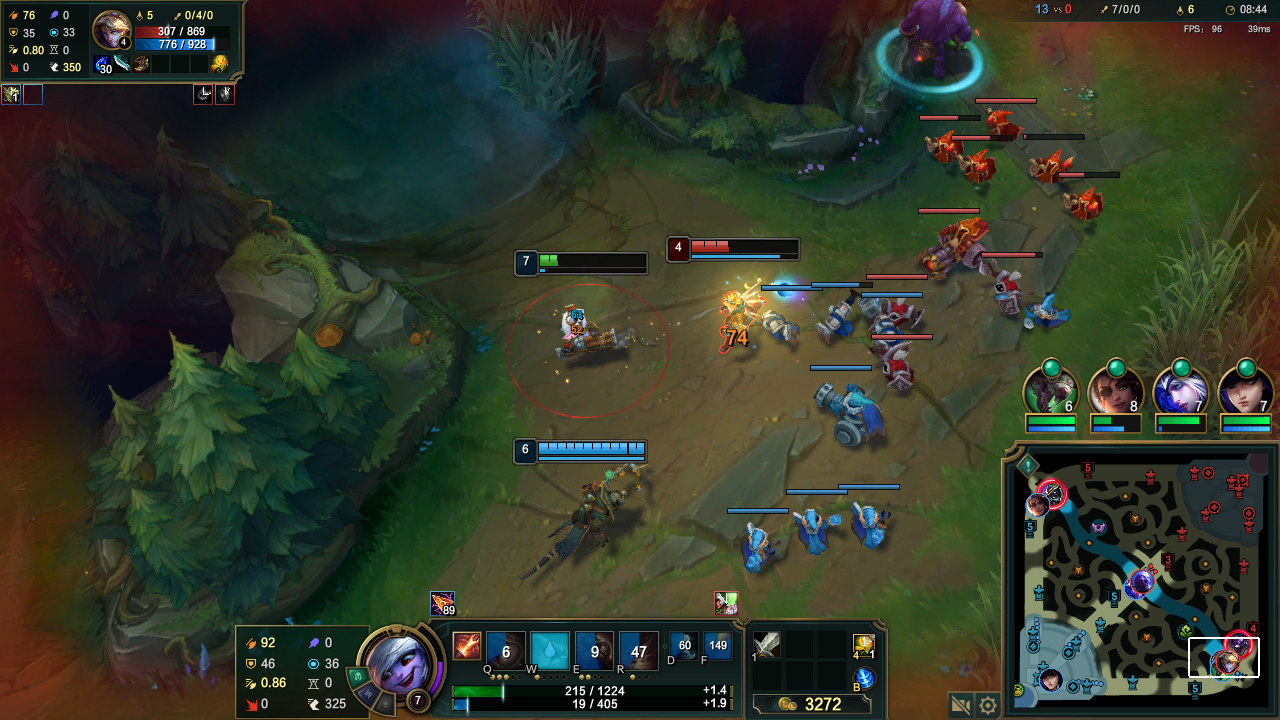DFXB: (908, 214, 997, 279), (978, 258, 1033, 313), (872, 341, 918, 394), (921, 125, 974, 171), (1064, 181, 1117, 224), (1026, 147, 1082, 187), (881, 287, 928, 328), (963, 145, 1010, 184), (978, 107, 1027, 142)
DFYX: (688, 239, 764, 258)
WFXB: (806, 381, 890, 453), (789, 504, 843, 560), (848, 499, 900, 550), (738, 520, 788, 573), (754, 305, 810, 352), (817, 301, 862, 351), (867, 307, 917, 344)
